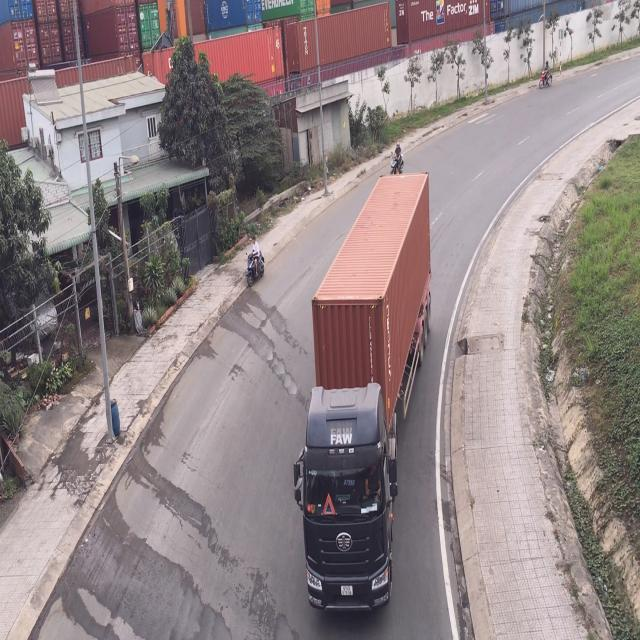motorbike: (246, 238, 266, 288), (538, 53, 554, 93), (392, 139, 404, 174)
truck: (300, 175, 429, 624)
